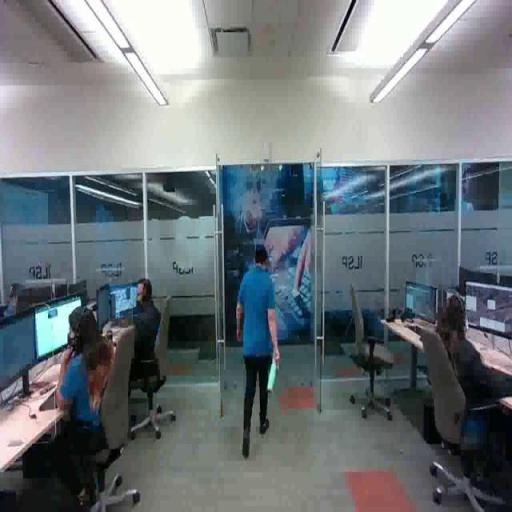person: (236, 244, 285, 463)
